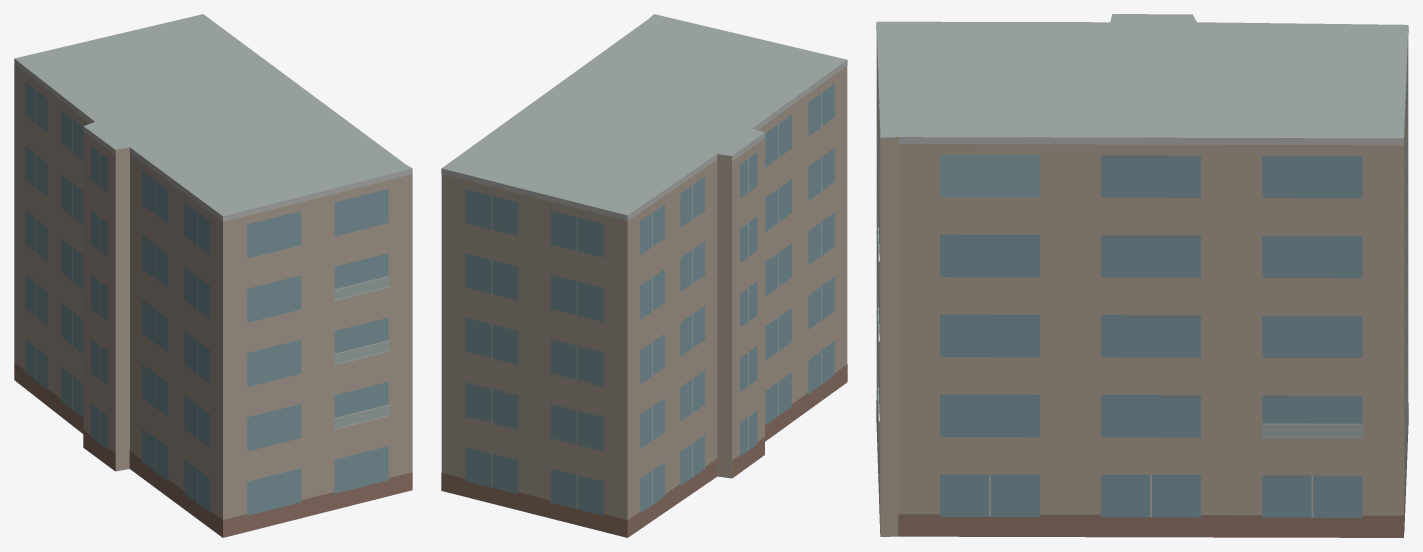
The model's file is survey-upis-32822162.glb.
3 views of the same model, side by side, from view 1: azimuth 30°, elevation 25°; view 2: azimuth 150°, elevation 25°; view 3: azimuth 270°, elevation 25° (orthographic). The views are drawn at different scales.
Parts seen in each view (by area): view 1: survey-upis-32822162.tmp; view 2: survey-upis-32822162.tmp; view 3: survey-upis-32822162.tmp.
Part boxes in pixels (<box>): survey-upis-32822162.tmp: <box>14,14,412,537</box>; survey-upis-32822162.tmp: <box>441,14,847,537</box>; survey-upis-32822162.tmp: <box>876,14,1408,537</box>.
Size of the model in its own units: 9.45 by 14.1 by 17.02.
